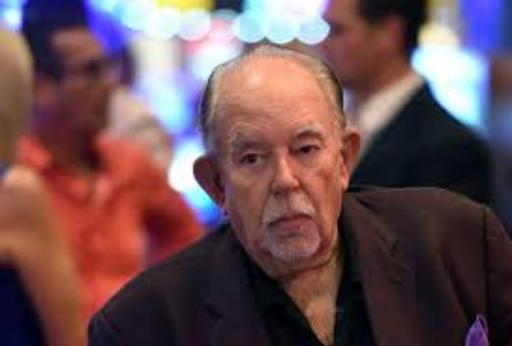left_eye: (294, 144, 327, 156)
left_lip_corner: (306, 213, 317, 224)
right_eye: (238, 153, 270, 169)
right_lip_corner: (263, 219, 278, 232)
